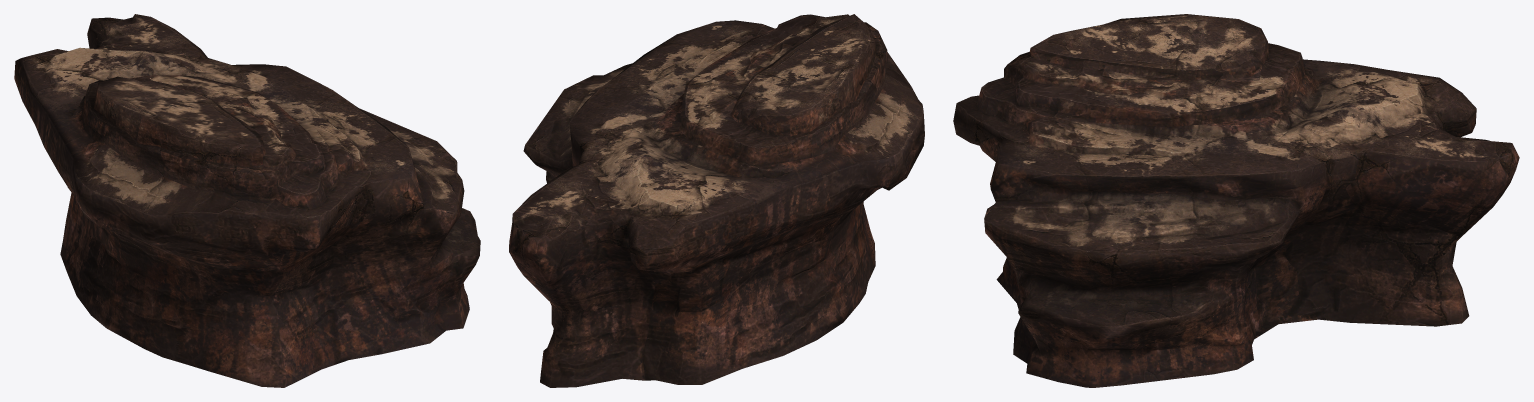
Rendered from rock_red_medium02.dae.
The picture shows the model from 3 angles, left to right: view 1: azimuth 30°, elevation 25°; view 2: azimuth 150°, elevation 25°; view 3: azimuth 270°, elevation 25°; orthographic projection.
Parts seen in each view (by area): view 1: Mesh; view 2: Mesh; view 3: Mesh.
Boxes of the visible parts, <box> form: Mesh: <box>14,14,480,387</box>; Mesh: <box>509,14,924,387</box>; Mesh: <box>953,14,1519,387</box>.
Bounding box in the file's own units: 5.13 × 3.14 × 6.89.
